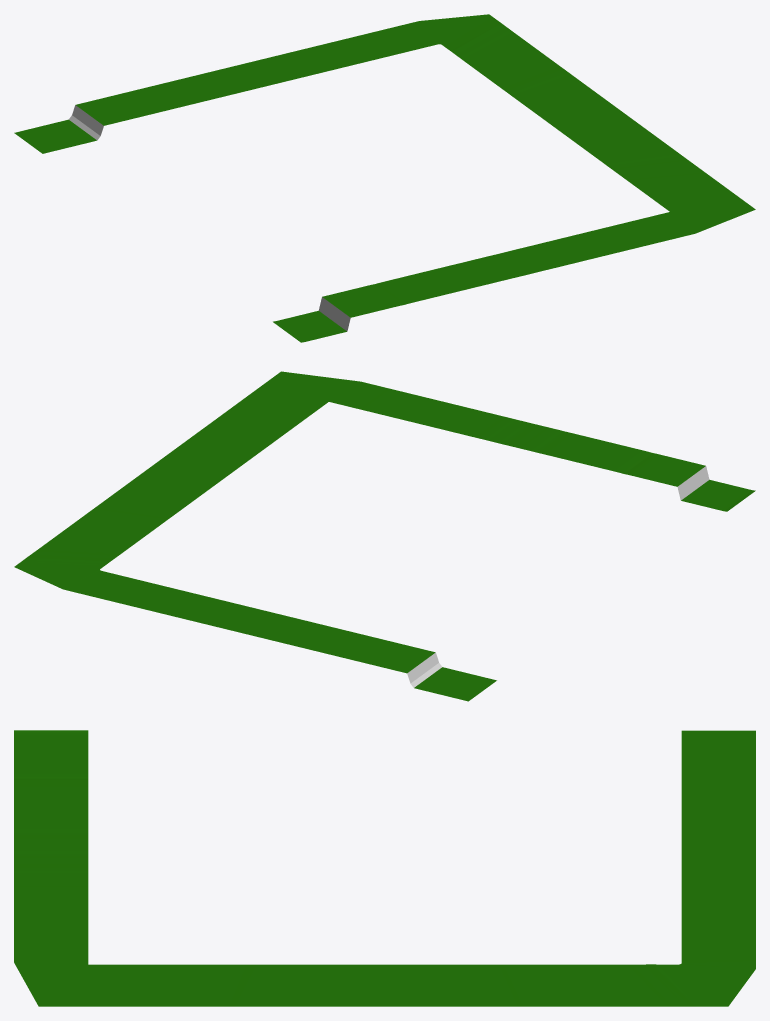
The model's file is Landscape_Extends.fbx.
3 renders of one model, top to bottom at view 1: azimuth 30°, elevation 25°; view 2: azimuth 150°, elevation 25°; view 3: azimuth 270°, elevation 25°, orthographic. The views are drawn at different scales.
Parts seen in each view (by area): view 1: LandscapeBackdrop; view 2: LandscapeBackdrop; view 3: LandscapeBackdrop.
Part boxes in pixels (bbox=[...]): LandscapeBackdrop: bbox=[14, 14, 755, 342]; LandscapeBackdrop: bbox=[14, 371, 755, 701]; LandscapeBackdrop: bbox=[14, 730, 755, 1006].
Size of the model in its own units: 11587 by 315 by 12400.
